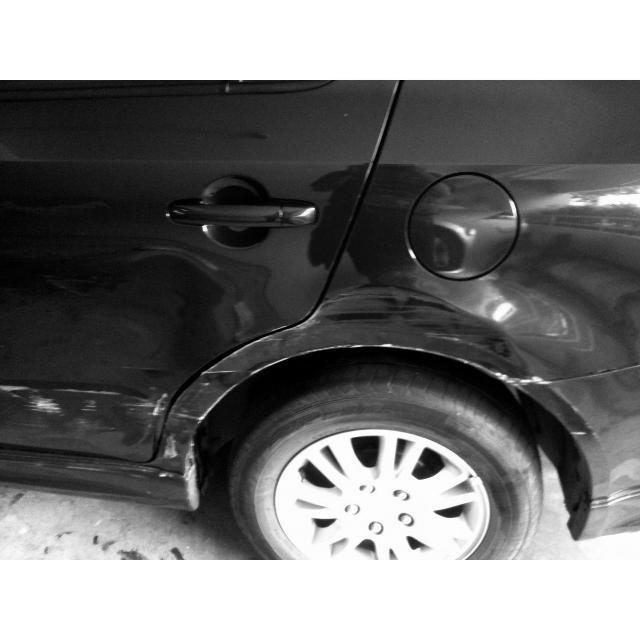doorouter-dent: (0, 181, 168, 451)
quaterpanel-dent: (351, 250, 562, 407)
